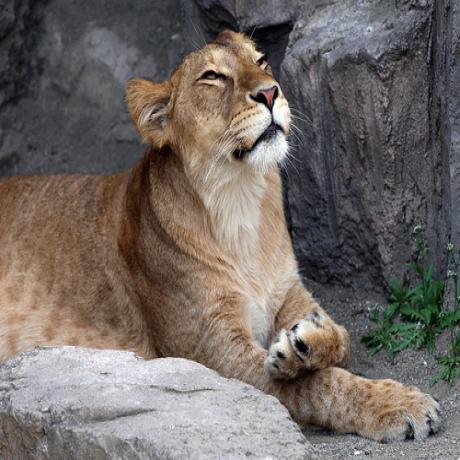Lion: (0, 30, 441, 443)
